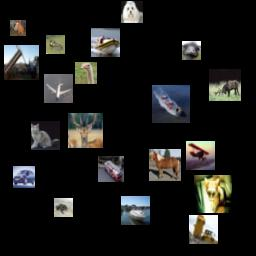airplane: (44, 74, 73, 103), (186, 141, 215, 170)
automobile: (13, 166, 35, 188)
bird: (75, 62, 97, 84), (182, 41, 201, 60)
cat: (194, 175, 232, 213), (31, 121, 60, 150)
deer: (68, 113, 103, 148), (209, 69, 241, 101)
dog: (121, 1, 143, 23)
frog: (54, 198, 73, 217), (46, 35, 65, 54)
ship: (152, 85, 190, 123), (91, 28, 120, 57), (121, 196, 150, 225)
truck: (4, 45, 39, 80), (189, 215, 218, 244), (98, 156, 124, 182)
